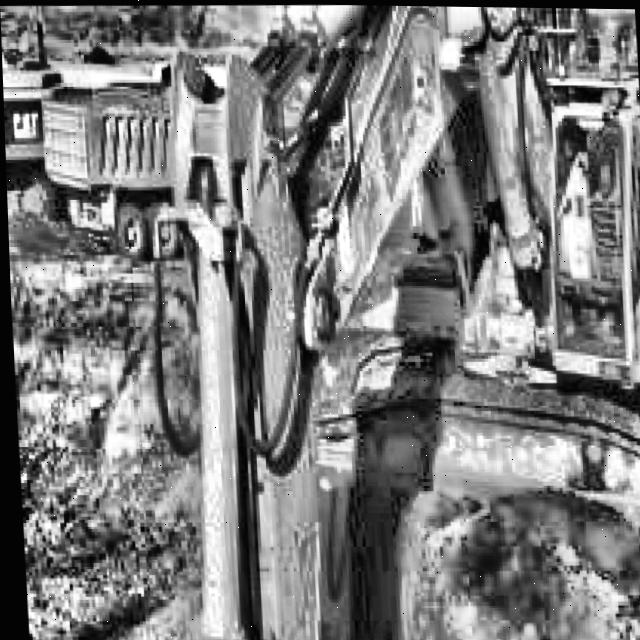dump_truck: (40, 61, 191, 253)
excavator: (129, 2, 640, 640), (0, 4, 53, 224)
